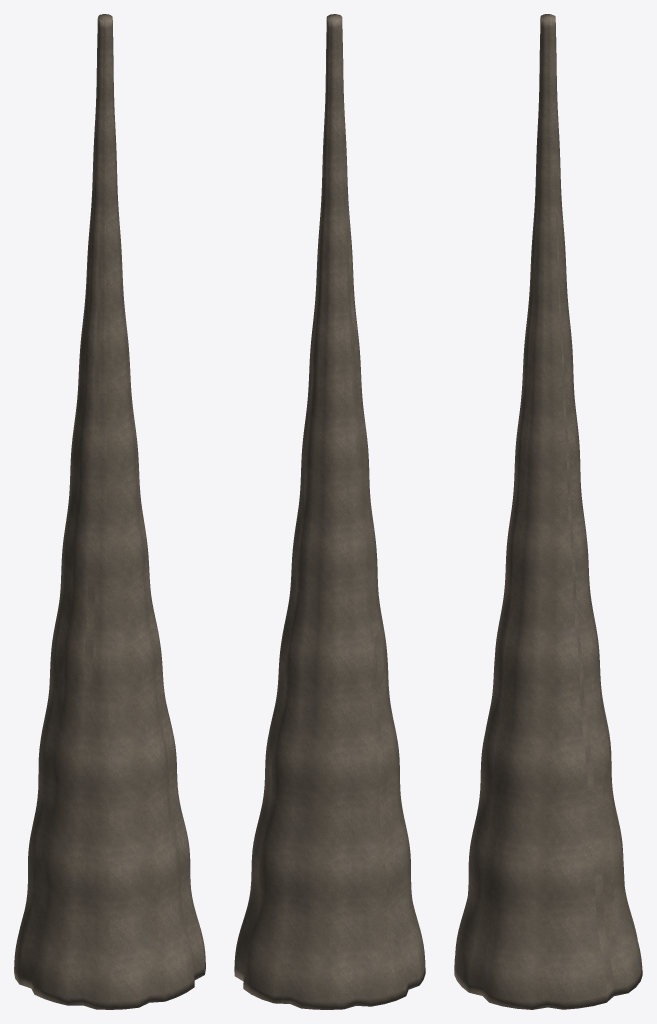
The model's file is rock_spire.glb.
3 renders of one model, left to right at view 1: azimuth 30°, elevation 25°; view 2: azimuth 150°, elevation 25°; view 3: azimuth 270°, elevation 25°, orthographic.
Visible parts, largest first — view 1: rock_spire; view 2: rock_spire; view 3: rock_spire.
Part boxes in pixels (left/top/right/bottom): rock_spire: left=14, top=14, right=205, bottom=1009; rock_spire: left=234, top=14, right=425, bottom=1009; rock_spire: left=454, top=14, right=642, bottom=1009.
Bounding box in the file's own units: 6.3 × 35 × 6.29.
Materials: 1 (1 with a texture image).
